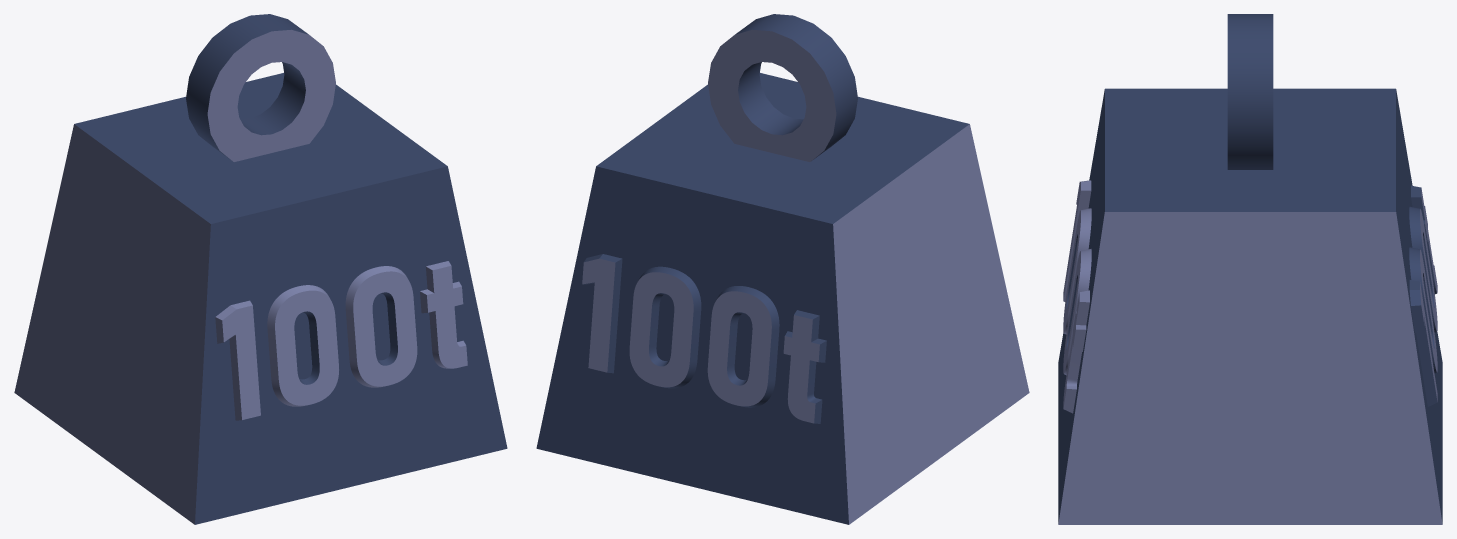
The model's file is Item_Weight@Turn.FBX.
The picture shows the model from 3 angles, left to right: view 1: azimuth 30°, elevation 25°; view 2: azimuth 150°, elevation 25°; view 3: azimuth 270°, elevation 25°; orthographic projection. The views are drawn at different scales.
Parts seen in each view (by area): view 1: Item_Weight; view 2: Item_Weight; view 3: Item_Weight.
Part boxes in pixels (x1,y1,x2,y2): Item_Weight: (14,14,507,524); Item_Weight: (536,14,1029,524); Item_Weight: (1058,14,1442,524).
Size of the model in its own units: 4.56 by 5.54 by 4.56.
